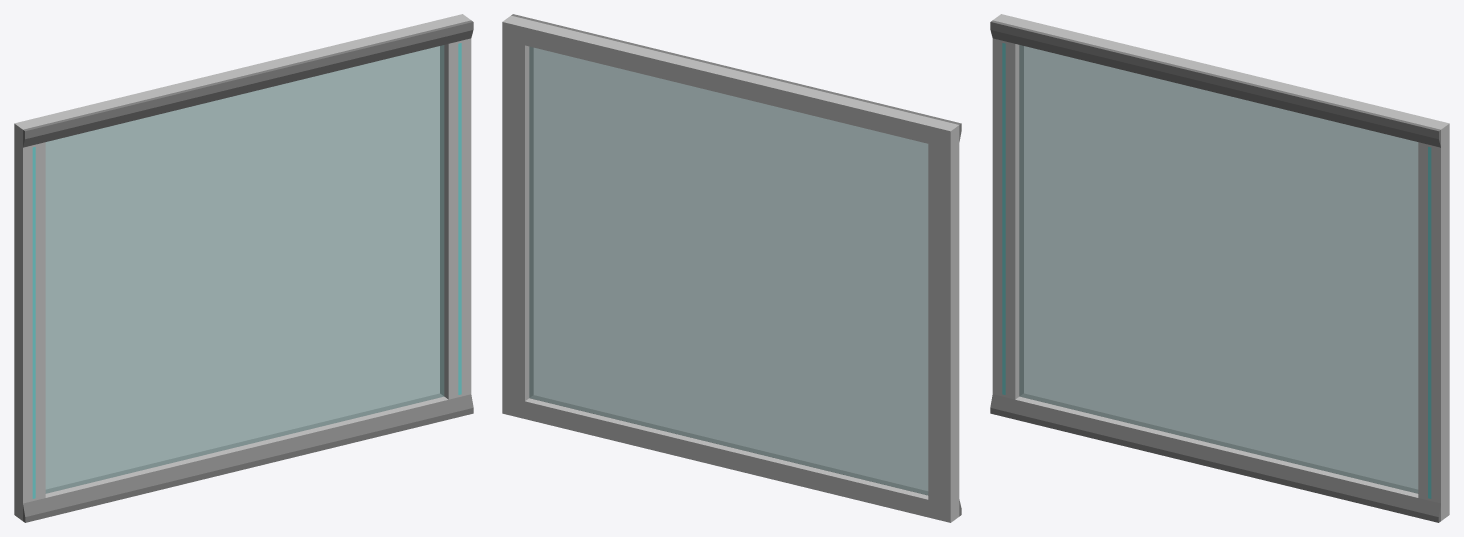
The model's file is Wall_Big_Window.fbx.
3 views of the same model, side by side, from view 1: azimuth 30°, elevation 25°; view 2: azimuth 150°, elevation 25°; view 3: azimuth 330°, elevation 25° (orthographic).
Visible parts, largest first — view 1: Wall_Big_Window; view 2: Wall_Big_Window; view 3: Wall_Big_Window.
Boxes of the visible parts, x1,y1,x2,y2 form: Wall_Big_Window: [14, 14, 473, 522]; Wall_Big_Window: [502, 14, 961, 522]; Wall_Big_Window: [990, 14, 1449, 522].
Size of the model in its own units: 6 by 0.2539 by 5.
